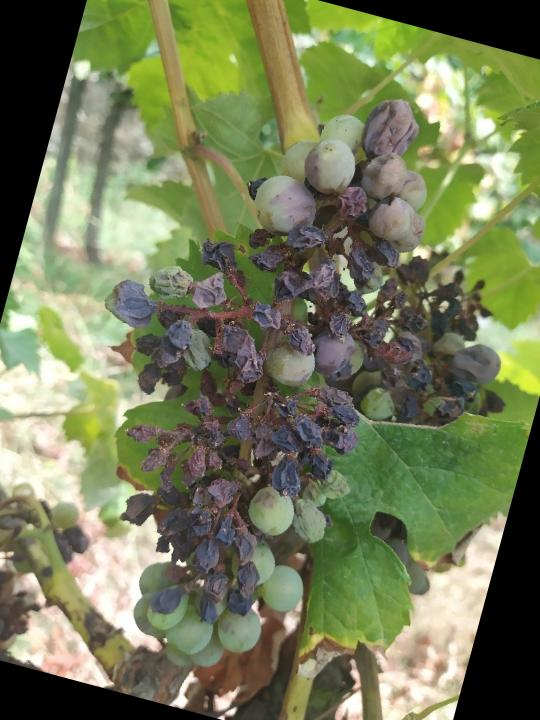grape: (15, 33, 540, 720)
